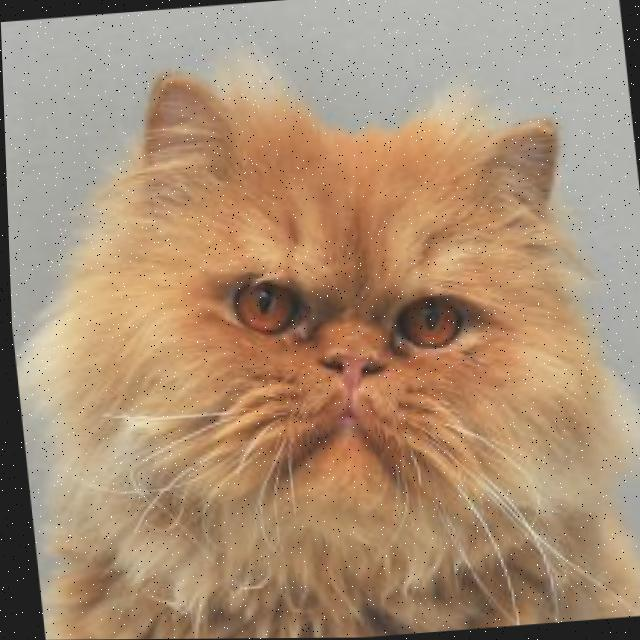Persian: (1, 34, 640, 640)
